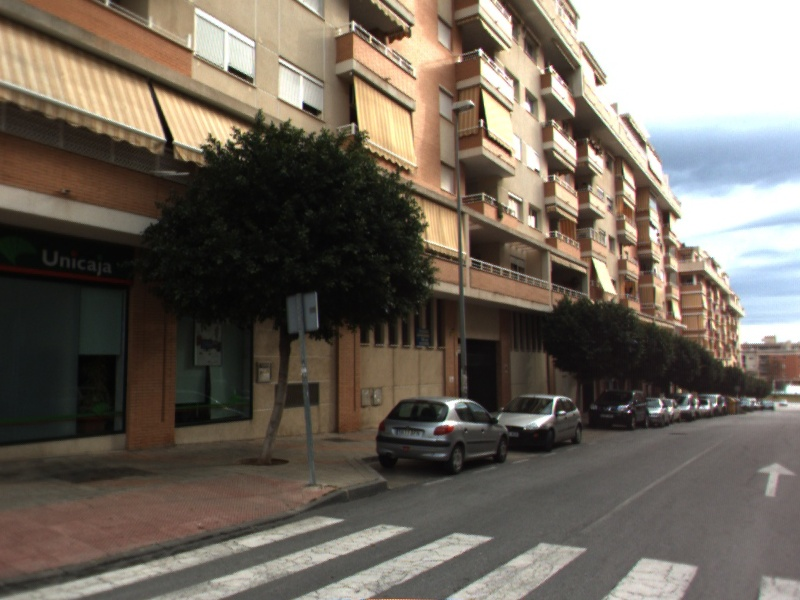STRAIGHT: (754, 460, 799, 498)
